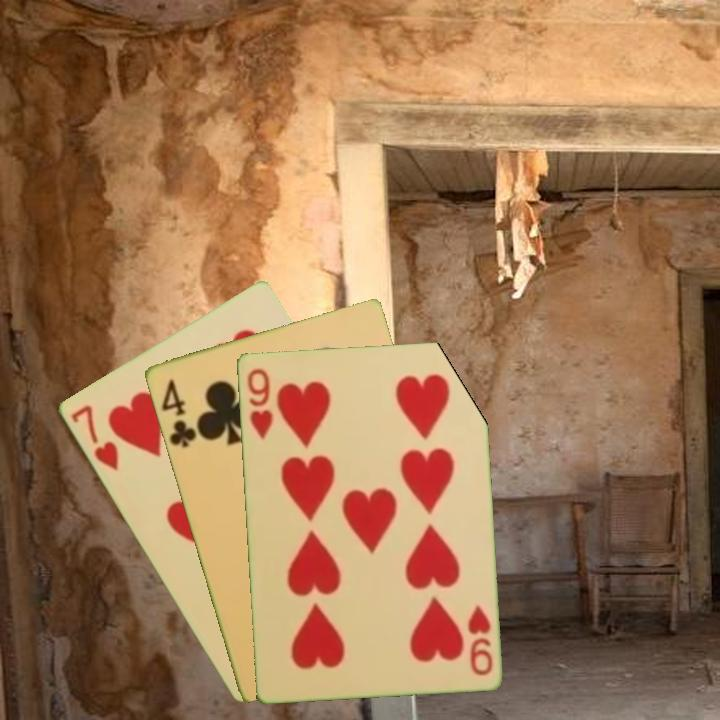4c: (157, 375, 199, 451)
7h: (66, 401, 121, 474)
9h: (243, 365, 275, 442), (464, 601, 495, 678)
